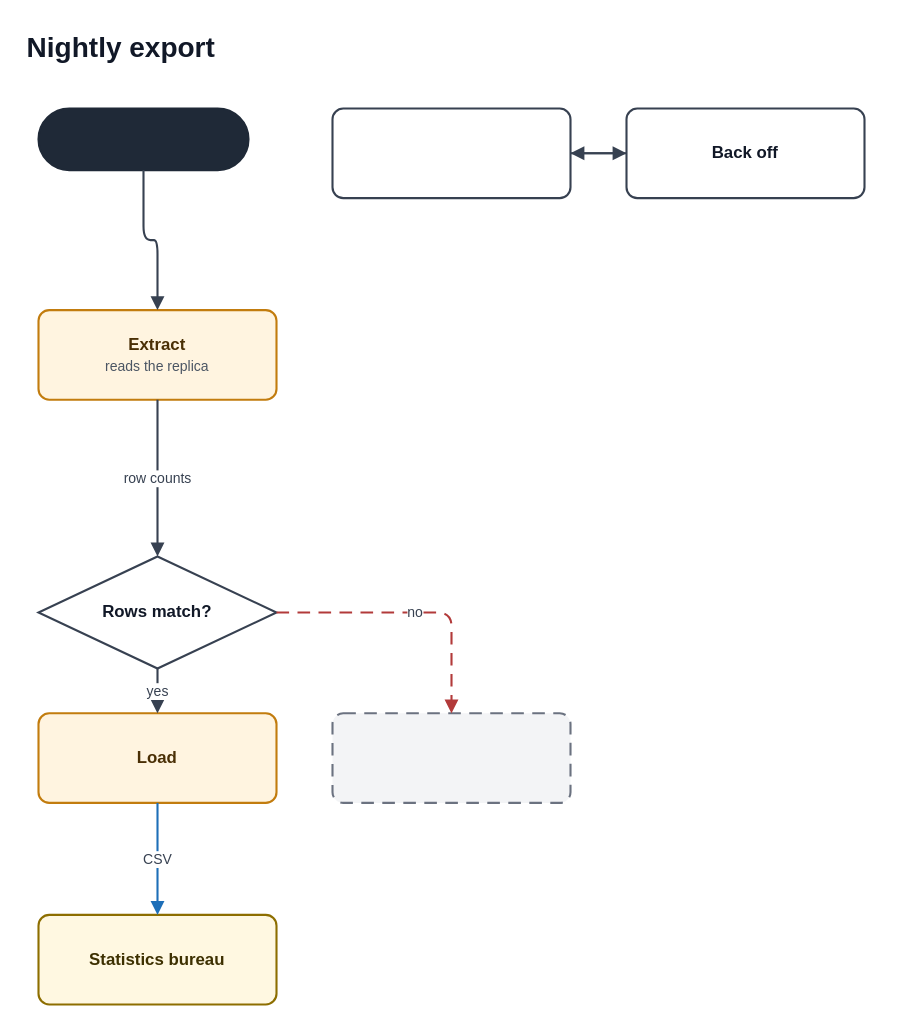
Some shapes in this 902 by 1029 pixel diagram are drawn without their labels. Here are the shapes that lost their labels. From the top down, the centre of each, then its label:
At (143,139): "02:00 trigger".
At (451,153): "Retry".
At (451,757): "Page on-call".
